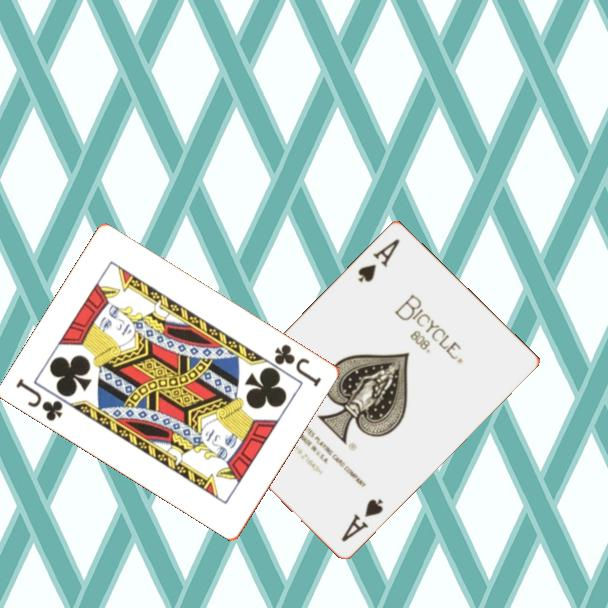c11: (271, 340, 325, 390), (13, 375, 66, 424)
s01: (354, 234, 403, 285), (338, 494, 386, 544)
